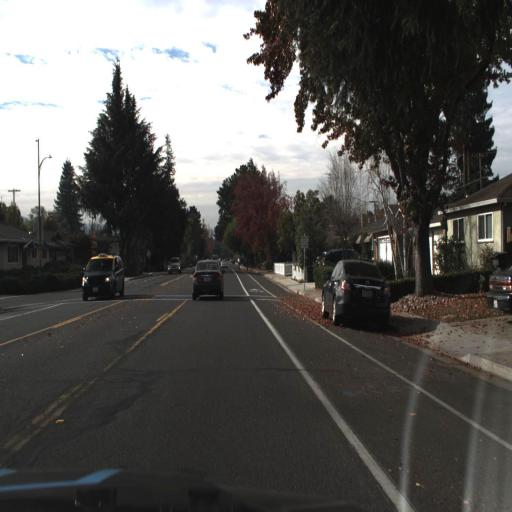car: (317, 253, 391, 323), (79, 247, 125, 305), (485, 253, 512, 323), (189, 259, 225, 301), (163, 251, 184, 281)
